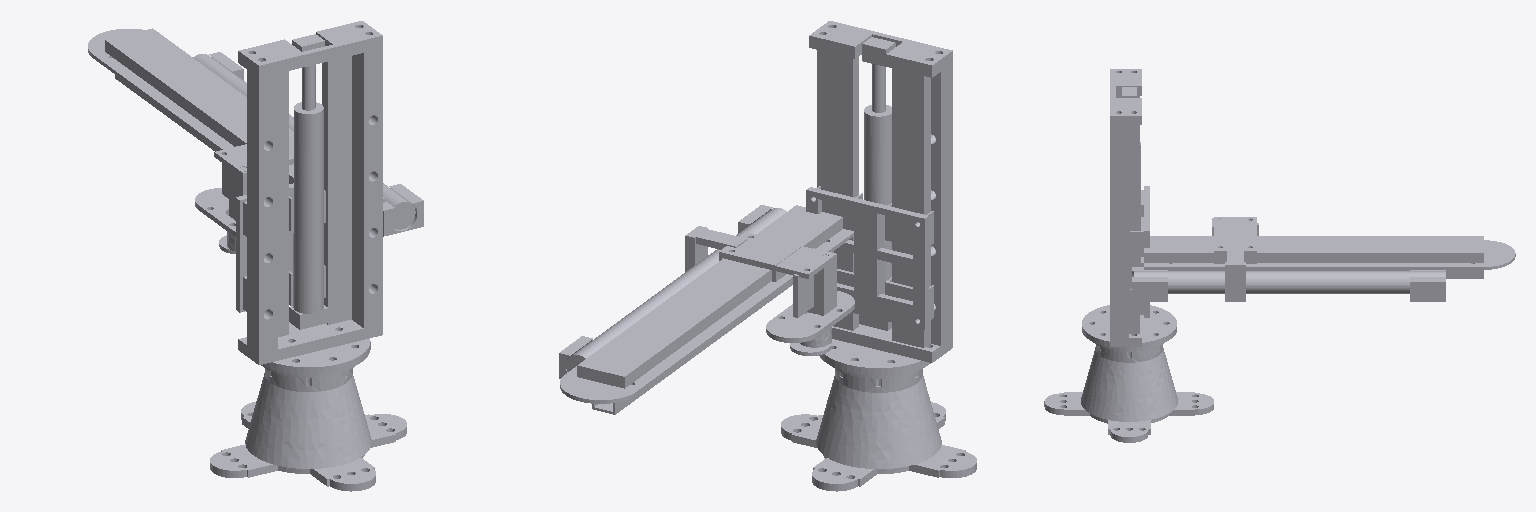
The robot description file, URDF, robot "arm_rpp":
<?xml version="1.0"?>
<!-- A.R.M. - Manipulador RPP (revoluta + 2 prismaticas) - v0.1 conceitual -->
<!-- STATUS: NAO VALIDADO PARA VOO/FABRICACAO. Gerado a partir de ARM_RPP_v01.FCStd. -->
<!-- Unidades: metros, radianos, kg, kg*m^2. Meshes em models/meshes (mm->m). -->
<!-- FK preservada: x=-d3*sin(th1), y=d3*cos(th1), z=l1+d2 ; l1=0.120 m -->
<!-- q1=th1 [rad]; q2=d2 [m]; q3=d3-0.100 [m] (offset do atuador; d3=0.100+q3) -->
<robot name="arm_rpp">

  <!-- ================= base_link (estrutura fixa ao drone) ================= -->
  <link name="base_link">
    <visual>
      <origin xyz="0 0 0" rpy="0 0 0"/>
      <geometry><mesh filename="meshes/base_link.stl"/></geometry>
      <material name="aluminio"><color rgba="0.78 0.78 0.82 1.0"/></material>
    </visual>
    <collision>
      <origin xyz="0 0 0" rpy="0 0 0"/>
      <geometry><mesh filename="meshes/base_link.stl"/></geometry>
    </collision>
    <inertial>
      <origin xyz="0.00000 0.00000 0.02580" rpy="0 0 0"/>
      <mass value="0.9875"/>
      <inertia ixx="1.0634e-03" ixy="0.0" ixz="0.0"
               iyy="1.0610e-03" iyz="0.0" izz="1.0503e-03"/>
    </inertial>
  </link>

  <!-- ================= Junta 1: REVOLUTA (theta1, eixo z) ================= -->
  <joint name="joint1" type="revolute">
    <parent link="base_link"/>
    <child link="link1"/>
    <origin xyz="0 0 0" rpy="0 0 0"/>
    <axis xyz="0 0 1"/>
    <!-- limite de posicao do CAD: theta1 in [-90, 90] deg -->
    <!-- effort/velocity do catalogo XM430 (nominal, confirmar): 0.82 Nm continuo; velocidade a confirmar -->
    <limit lower="-1.570796" upper="1.570796" effort="0.82" velocity="4.8"/>
  </joint>

  <!-- ================= link1 (coluna rotativa + guias verticais) ================= -->
  <link name="link1">
    <visual>
      <origin xyz="0 0 0" rpy="0 0 0"/>
      <geometry><mesh filename="meshes/link1.stl"/></geometry>
      <material name="aluminio"/>
    </visual>
    <collision>
      <origin xyz="0 0 0" rpy="0 0 0"/>
      <geometry><mesh filename="meshes/link1.stl"/></geometry>
    </collision>
    <inertial>
      <origin xyz="0.00000 -0.00467 0.17689" rpy="0 0 0"/>
      <mass value="0.7202"/>
      <inertia ixx="5.2691e-03" ixy="0.0" ixz="0.0"
               iyy="6.0034e-03" iyz="8.4545e-05" izz="9.0484e-04"/>
    </inertial>
  </link>

  <!-- ================= Junta 2: PRISMATICA (d2, eixo z, vertical) ================= -->
  <joint name="joint2" type="prismatic">
    <parent link="link1"/>
    <child link="link2"/>
    <origin xyz="0 0 0" rpy="0 0 0"/>
    <axis xyz="0 0 1"/>
    <!-- limite de curso do CAD: d2 in [0, 0.100] m -->
    <!-- effort/velocity do catalogo Actuonix T16-200: 90 N; 0.018 m/s (sem carga) -->
    <limit lower="0.0" upper="0.100" effort="90.0" velocity="0.018"/>
  </joint>

  <!-- ================= link2 (carro vertical + braco horizontal fixo) ================= -->
  <link name="link2">
    <visual>
      <origin xyz="0 0 0" rpy="0 0 0"/>
      <geometry><mesh filename="meshes/link2.stl"/></geometry>
      <material name="aluminio"/>
    </visual>
    <collision>
      <origin xyz="0 0 0" rpy="0 0 0"/>
      <geometry><mesh filename="meshes/link2.stl"/></geometry>
    </collision>
    <inertial>
      <origin xyz="0.04704 0.13786 0.16160" rpy="0 0 0"/>
      <mass value="0.6335"/>
      <inertia ixx="7.4567e-03" ixy="-7.3134e-04" ixz="-3.7342e-05"
               iyy="8.6444e-04" iyz="-2.0874e-04" izz="8.0308e-03"/>
    </inertial>
  </link>

  <!-- ================= Junta 3: PRISMATICA (d3, eixo y, horizontal) ================= -->
  <joint name="joint3" type="prismatic">
    <parent link="link2"/>
    <child link="link3"/>
    <origin xyz="0 0 0" rpy="0 0 0"/>
    <axis xyz="0 1 0"/>
    <!-- q3 = d3 - 0.100 ; curso do CAD: q3 in [0, 0.200] m  (d3 in [0.100, 0.300] m) -->
    <!-- effort/velocity do catalogo Actuonix T16-100 (horizontal T16-200 na peca): 90 N; 0.018 m/s -->
    <limit lower="0.0" upper="0.200" effort="90.0" velocity="0.018"/>
  </joint>

  <!-- ================= link3 (carro horizontal + eletroima/efetuador) ================= -->
  <link name="link3">
    <visual>
      <origin xyz="0 0 0" rpy="0 0 0"/>
      <geometry><mesh filename="meshes/link3.stl"/></geometry>
      <material name="aluminio"/>
    </visual>
    <collision>
      <origin xyz="0 0 0" rpy="0 0 0"/>
      <geometry><mesh filename="meshes/link3.stl"/></geometry>
    </collision>
    <inertial>
      <origin xyz="0.01564 0.09645 0.15439" rpy="0 0 0"/>
      <mass value="0.2187"/>
      <inertia ixx="1.5767e-04" ixy="-1.2283e-05" ixz="-7.7921e-05"
               iyy="3.3067e-04" iyz="-3.8774e-06" izz="2.4893e-04"/>
    </inertial>
  </link>

  <!-- ================= TCP / efetuador (face do eletroima) ================= -->
  <!-- Frame fixo na face de contato do eletroima: link3-local (0, 0.100, 0.120) m -->
  <joint name="tcp_joint" type="fixed">
    <parent link="link3"/>
    <child link="tcp"/>
    <origin xyz="0.0 0.100 0.120" rpy="0 0 0"/>
  </joint>
  <link name="tcp"/>

</robot>

--- Facts derived from the render (not from the file) ---
3 views of the same robot in one strip: view 1: azimuth 30°, elevation 25°; view 2: azimuth 150°, elevation 25°; view 3: azimuth 270°, elevation 25° (orthographic).
Robot: arm_rpp — 5 links, 4 joints (1 revolute, 2 prismatic, 1 fixed); root link base_link; default pose: all joints at 0.
Visible links, largest first — view 1: link1, link2, base_link, link3; view 2: link1, link2, base_link, link3; view 3: link2, link1, base_link, link3.
Boxes of the visible links, x1,y1,x2,y2 form: link1: (238,21,382,374); link2: (88,28,423,312); base_link: (210,366,406,491); link3: (195,132,293,253); link1: (809,21,952,375); link2: (559,186,933,414); base_link: (781,367,976,491); link3: (685,226,854,355); link2: (1130,186,1515,317); link1: (1082,69,1176,348); base_link: (1044,342,1213,442); link3: (1212,217,1258,301).
Size in the robot's own frame: 0.18 by 0.4435 by 0.328 metres.
4 mesh visuals loaded from 4 distinct referenced files (4 binary STL).
